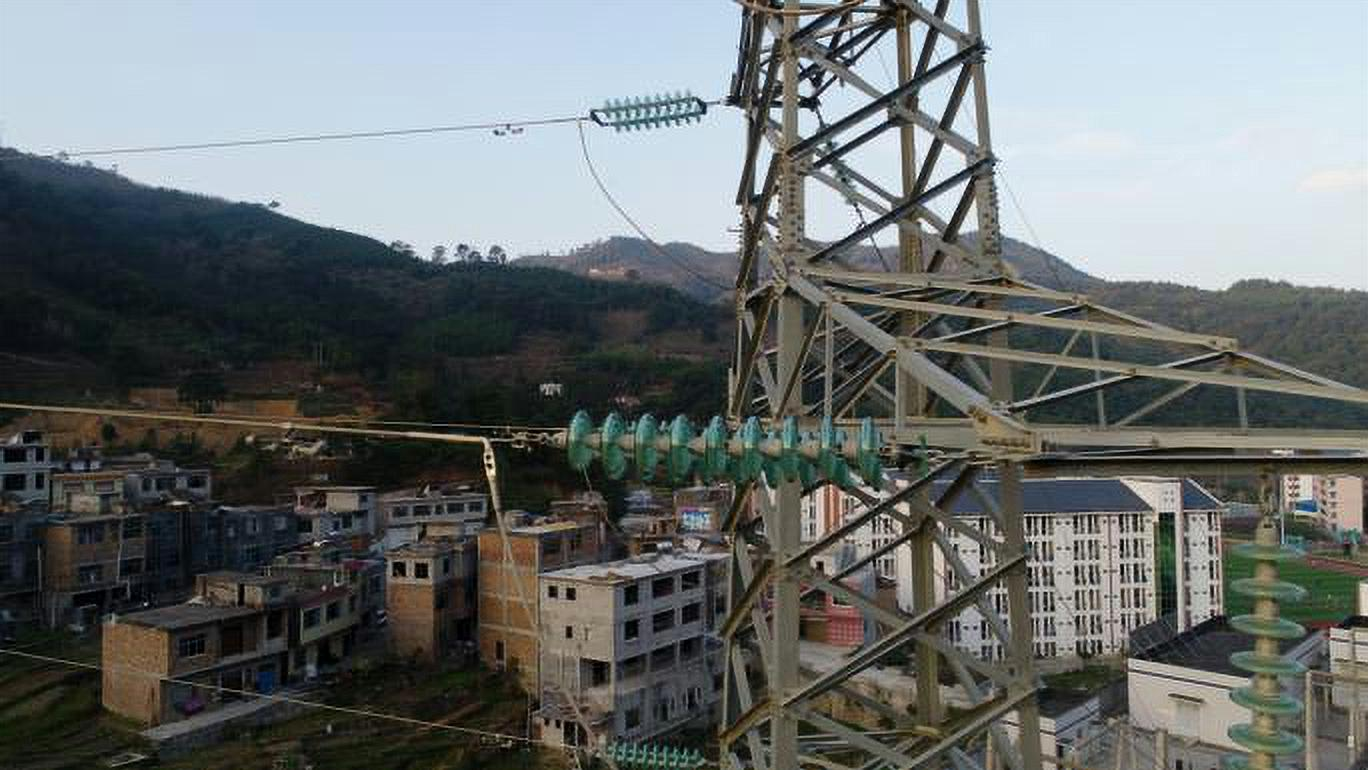insulator: (562, 404, 890, 498), (1223, 540, 1312, 761), (599, 86, 708, 137), (606, 734, 708, 770)
